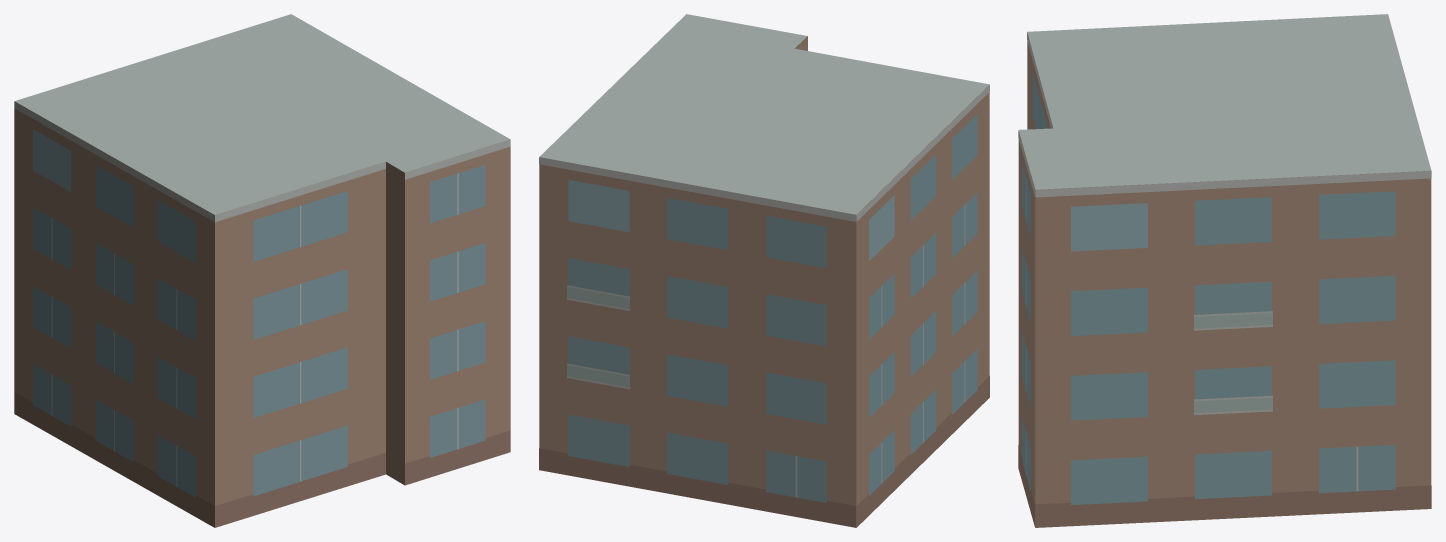
The model's file is survey-upis-32780569.glb.
3 renders of one model, left to right at view 1: azimuth 30°, elevation 25°; view 2: azimuth 150°, elevation 25°; view 3: azimuth 270°, elevation 25°, orthographic. The views are drawn at different scales.
Visible parts, largest first — view 1: survey-upis-32780569.tmp; view 2: survey-upis-32780569.tmp; view 3: survey-upis-32780569.tmp.
Part boxes in pixels (left/top/right/bottom): survey-upis-32780569.tmp: left=14, top=14, right=510, bottom=527; survey-upis-32780569.tmp: left=539, top=14, right=989, bottom=527; survey-upis-32780569.tmp: left=1018, top=14, right=1431, bottom=527.
Size of the model in its own units: 11.82 by 10.6 by 11.74.
